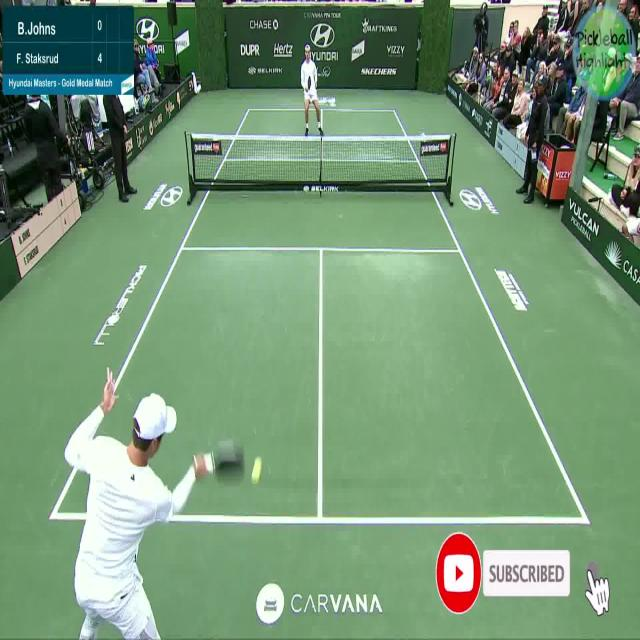ball: (251, 458, 263, 484)
